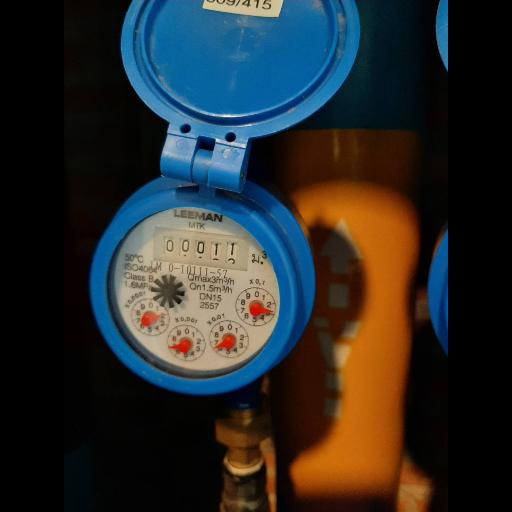0: (162, 236, 176, 255), (179, 238, 192, 257), (195, 240, 207, 259)
1: (226, 240, 239, 264), (210, 241, 222, 261)
border_water_meter_number: (151, 227, 251, 271)
